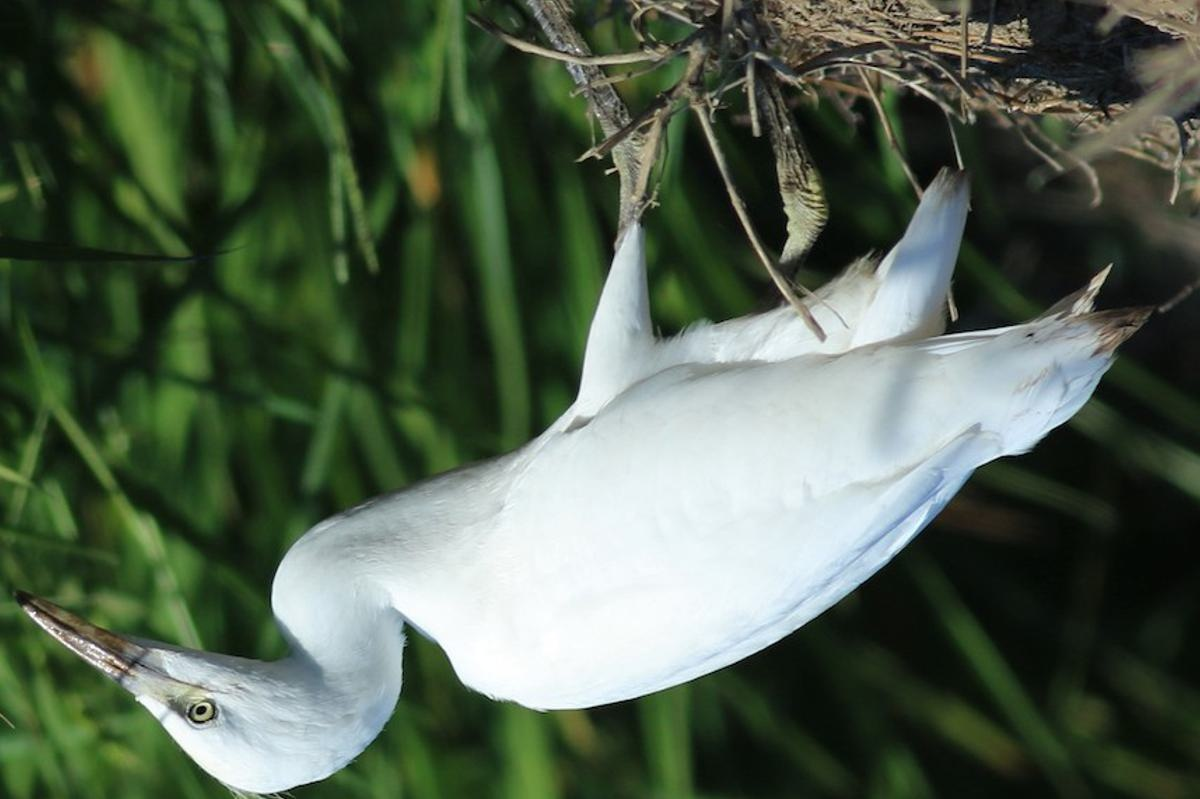egret: (17, 101, 1138, 793)
